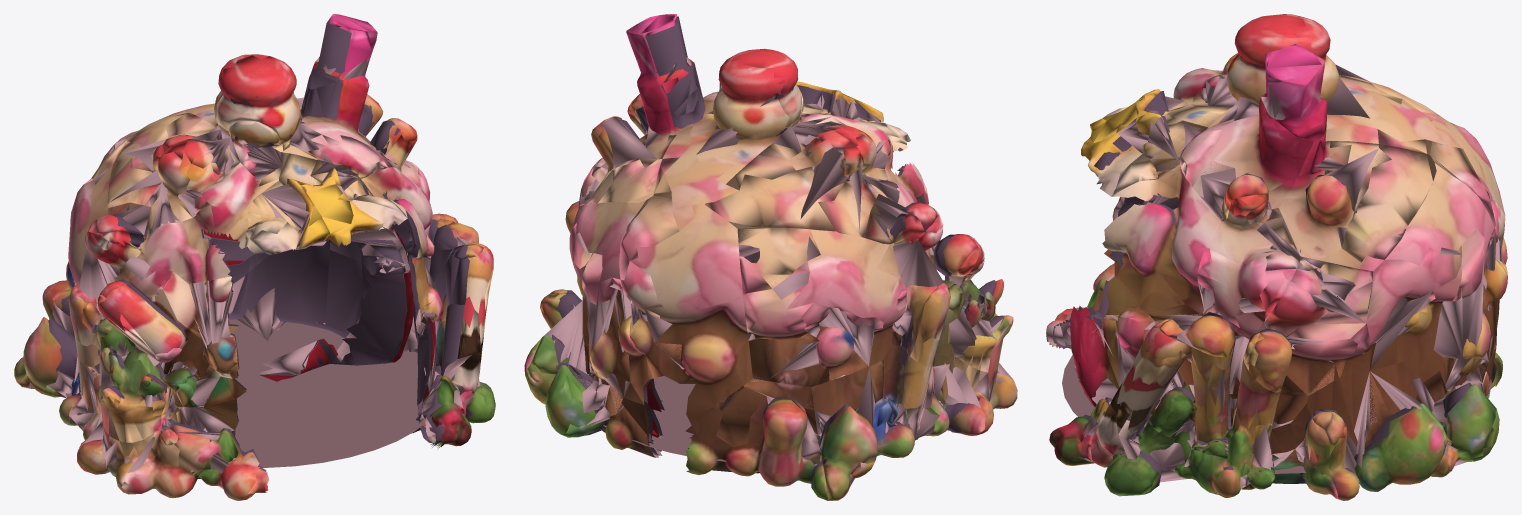
Rendered from CF_MonsterHouse_Fractured.fbx.
3 views of the same model, side by side, from view 1: azimuth 30°, elevation 25°; view 2: azimuth 150°, elevation 25°; view 3: azimuth 270°, elevation 25° (orthographic). The views are drawn at different scales.
Visible parts, largest first — view 1: CF_MonsterHouse_Frag_06, CF_MonsterHouse_Frag_17, CF_MonsterHouse_Frag_08, CF_MonsterHouse_Frag_09, CF_MonsterHouse_Frag_01, CF_MonsterHouse_Frag_04, CF_MonsterHouse_Frag_13, CF_MonsterHouse_Frag_18, CF_MonsterHouse_Frag_14, CF_MonsterHouse_Frag_26, CF_MonsterHouse_Frag_15, CF_MonsterHouse_Frag_03 (+15 smaller); view 2: CF_MonsterHouse_Frag_16, CF_MonsterHouse_Frag_27, CF_MonsterHouse_Frag_03, CF_MonsterHouse_Frag_26, CF_MonsterHouse_Frag_25, CF_MonsterHouse_Frag_22, CF_MonsterHouse_Frag_12, CF_MonsterHouse_Frag_13, CF_MonsterHouse_Frag_06, CF_MonsterHouse_Frag_07, CF_MonsterHouse_Frag_20, CF_MonsterHouse_Frag_08 (+11 smaller); view 3: CF_MonsterHouse_Frag_01, CF_MonsterHouse_Frag_20, CF_MonsterHouse_Frag_08, CF_MonsterHouse_Frag_21, CF_MonsterHouse_Frag_00, CF_MonsterHouse_Frag_10, CF_MonsterHouse_Frag_05, CF_MonsterHouse_Frag_26, CF_MonsterHouse_Frag_14, CF_MonsterHouse_Frag_22, CF_MonsterHouse_Frag_28, CF_MonsterHouse_Frag_19 (+11 smaller).
Part boxes in pixels (<box>): CF_MonsterHouse_Frag_06: <box>69,359,294,500</box>; CF_MonsterHouse_Frag_17: <box>74,231,244,421</box>; CF_MonsterHouse_Frag_08: <box>229,245,371,343</box>; CF_MonsterHouse_Frag_09: <box>88,121,286,235</box>; CF_MonsterHouse_Frag_01: <box>359,247,493,381</box>; CF_MonsterHouse_Frag_04: <box>236,275,396,422</box>; CF_MonsterHouse_Frag_13: <box>68,287,182,445</box>; CF_MonsterHouse_Frag_18: <box>292,324,471,466</box>; CF_MonsterHouse_Frag_14: <box>264,75,417,252</box>; CF_MonsterHouse_Frag_26: <box>180,54,310,152</box>; CF_MonsterHouse_Frag_15: <box>101,201,248,284</box>; CF_MonsterHouse_Frag_03: <box>87,111,264,260</box>; CF_MonsterHouse_Frag_16: <box>737,227,918,386</box>; CF_MonsterHouse_Frag_27: <box>619,195,752,421</box>; CF_MonsterHouse_Frag_03: <box>705,119,925,246</box>; CF_MonsterHouse_Frag_26: <box>653,48,801,204</box>; CF_MonsterHouse_Frag_25: <box>664,378,828,500</box>; CF_MonsterHouse_Frag_22: <box>582,200,691,450</box>; CF_MonsterHouse_Frag_12: <box>811,359,914,500</box>; CF_MonsterHouse_Frag_13: <box>902,246,1013,372</box>; CF_MonsterHouse_Frag_06: <box>898,346,1017,444</box>; CF_MonsterHouse_Frag_07: <box>527,339,667,457</box>; CF_MonsterHouse_Frag_20: <box>580,101,677,205</box>; CF_MonsterHouse_Frag_08: <box>524,293,691,451</box>; CF_MonsterHouse_Frag_01: <box>1089,313,1307,450</box>; CF_MonsterHouse_Frag_20: <box>1278,134,1436,271</box>; CF_MonsterHouse_Frag_08: <box>1307,350,1449,500</box>; CF_MonsterHouse_Frag_21: <box>1071,164,1221,328</box>; CF_MonsterHouse_Frag_00: <box>1159,194,1300,360</box>; CF_MonsterHouse_Frag_10: <box>1341,171,1462,376</box>; CF_MonsterHouse_Frag_05: <box>1244,256,1373,429</box>; CF_MonsterHouse_Frag_26: <box>1226,14,1432,154</box>; CF_MonsterHouse_Frag_14: <box>1179,97,1326,221</box>; CF_MonsterHouse_Frag_22: <box>1433,163,1507,388</box>; CF_MonsterHouse_Frag_28: <box>1183,415,1338,498</box>; CF_MonsterHouse_Frag_19: <box>1081,93,1228,196</box>.
Size of the model in its own units: 1601 by 1392 by 1427.
